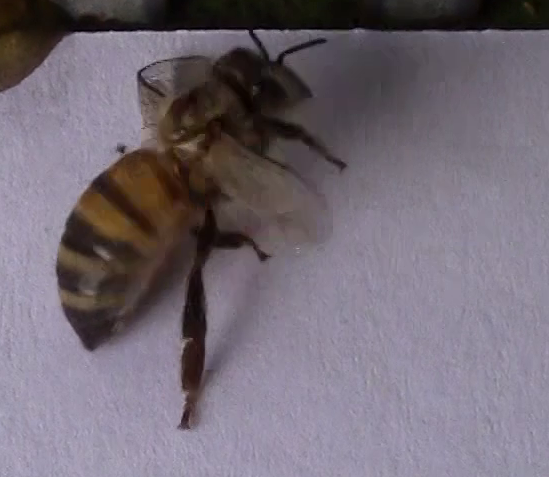Varroa destructor: (161, 92, 212, 127)
